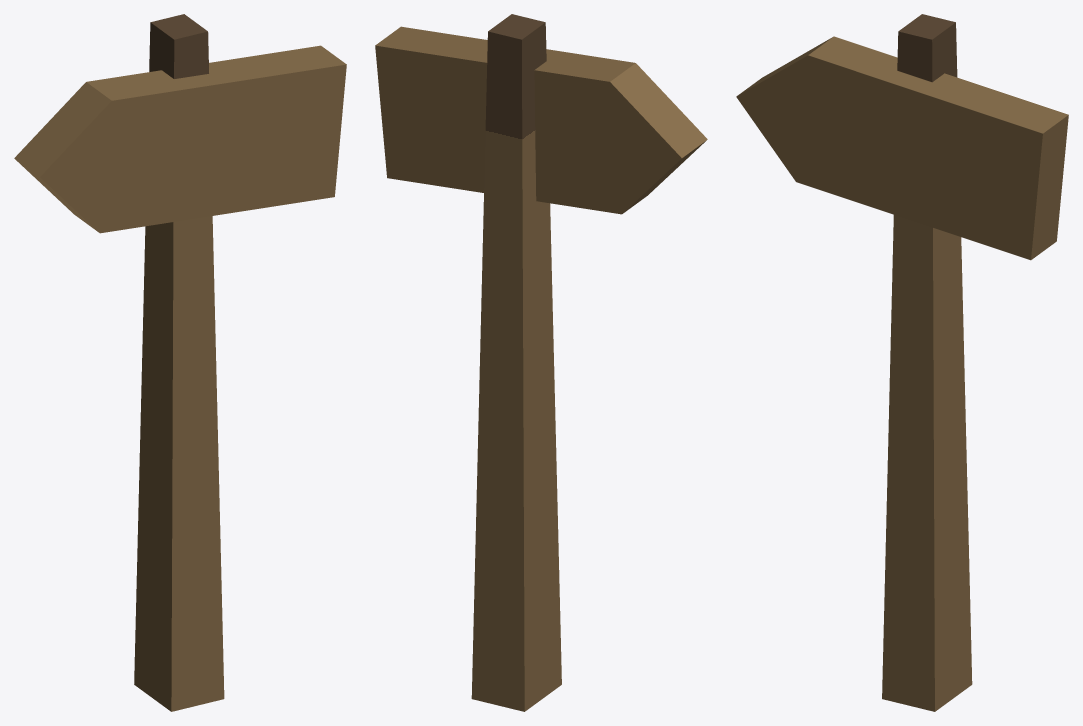
Rendered from marker-worn-post.glb.
The picture shows the model from 3 angles, left to right: view 1: azimuth 30°, elevation 25°; view 2: azimuth 150°, elevation 25°; view 3: azimuth 330°, elevation 25°; orthographic projection.
Visible parts, largest first — view 1: marker-worn-post runtime mesh; view 2: marker-worn-post runtime mesh; view 3: marker-worn-post runtime mesh.
Part boxes in pixels (<box>): marker-worn-post runtime mesh: <box>14,14,346,711</box>; marker-worn-post runtime mesh: <box>375,14,707,711</box>; marker-worn-post runtime mesh: <box>736,14,1068,711</box>.
Size of the model in its own units: 0.3347 by 0.693 by 0.0841.
1 material, 1 textured.
